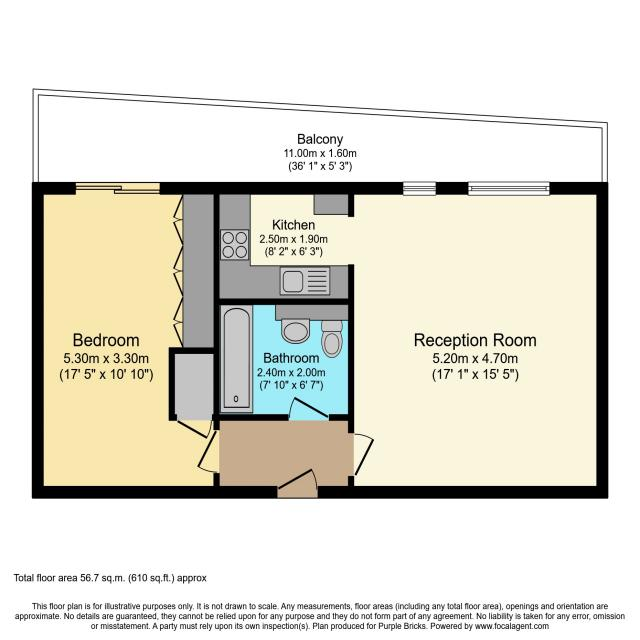DOOR: (276, 467, 319, 499), (347, 432, 375, 479), (287, 395, 330, 422), (196, 429, 221, 475), (175, 413, 213, 441)
ROOM: (212, 181, 609, 500), (31, 181, 221, 499)
SLIDING DOOR: (74, 181, 162, 195)
WINDOW: (467, 181, 551, 196), (402, 180, 437, 196)
